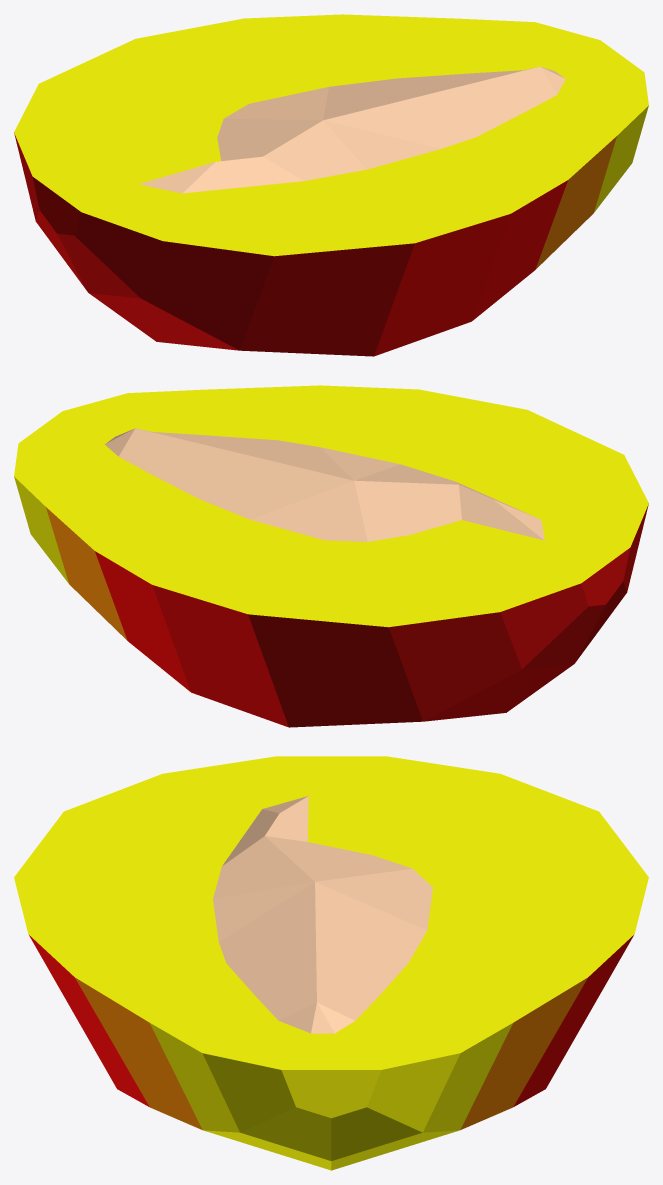
File: mango02.gltf
3 renders of one model, top to bottom at view 1: azimuth 30°, elevation 25°; view 2: azimuth 150°, elevation 25°; view 3: azimuth 270°, elevation 25°, orthographic. The views are drawn at different scales.
Visible parts, largest first — view 1: Cylinder; view 2: Cylinder; view 3: Cylinder.
Boxes of the visible parts, x1,y1,x2,y2 form: Cylinder: [14, 14, 648, 356]; Cylinder: [14, 385, 648, 727]; Cylinder: [14, 756, 648, 1170].
Size of the model in its own units: 0.1116 by 0.0417 by 0.0955.
1 material, 1 textured.
